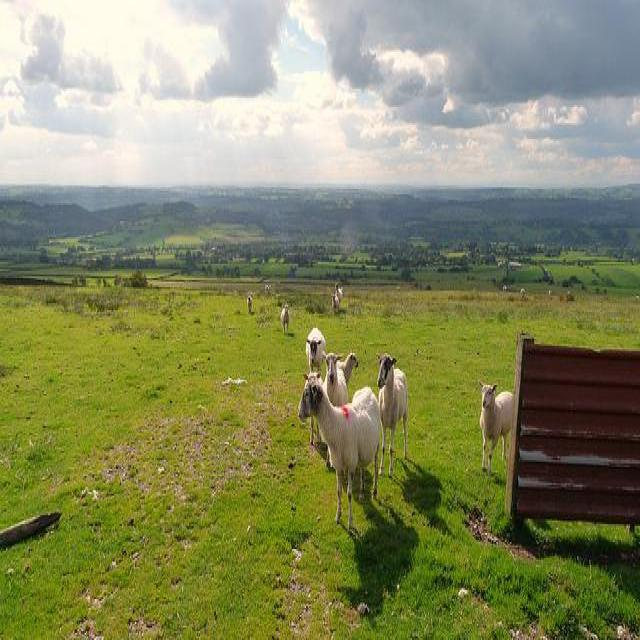Sheep: (296, 373, 380, 531), (375, 351, 408, 476), (478, 380, 514, 474)
